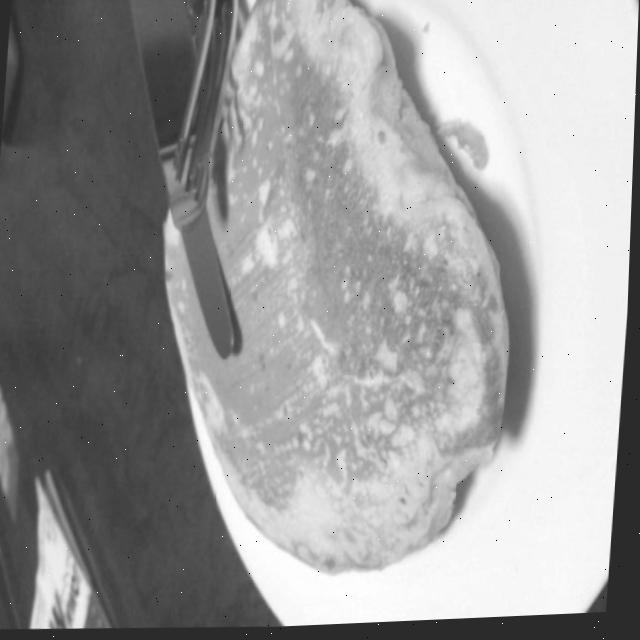蔬菜料理: (0, 42, 638, 640)
